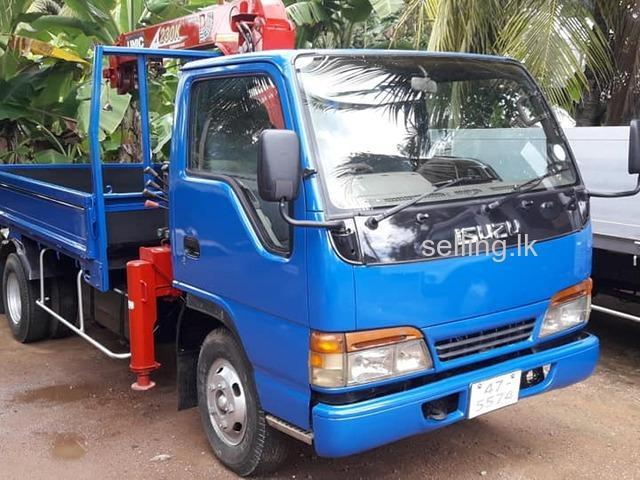truck: (1, 44, 640, 480)
